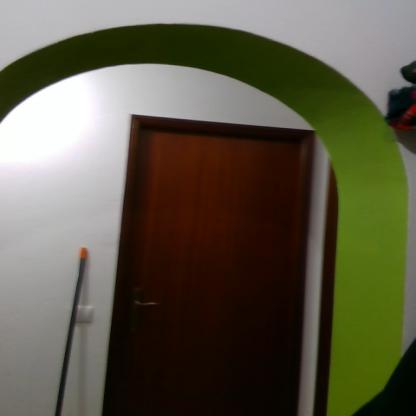door: (134, 124, 300, 415)
lever: (136, 300, 162, 310)
